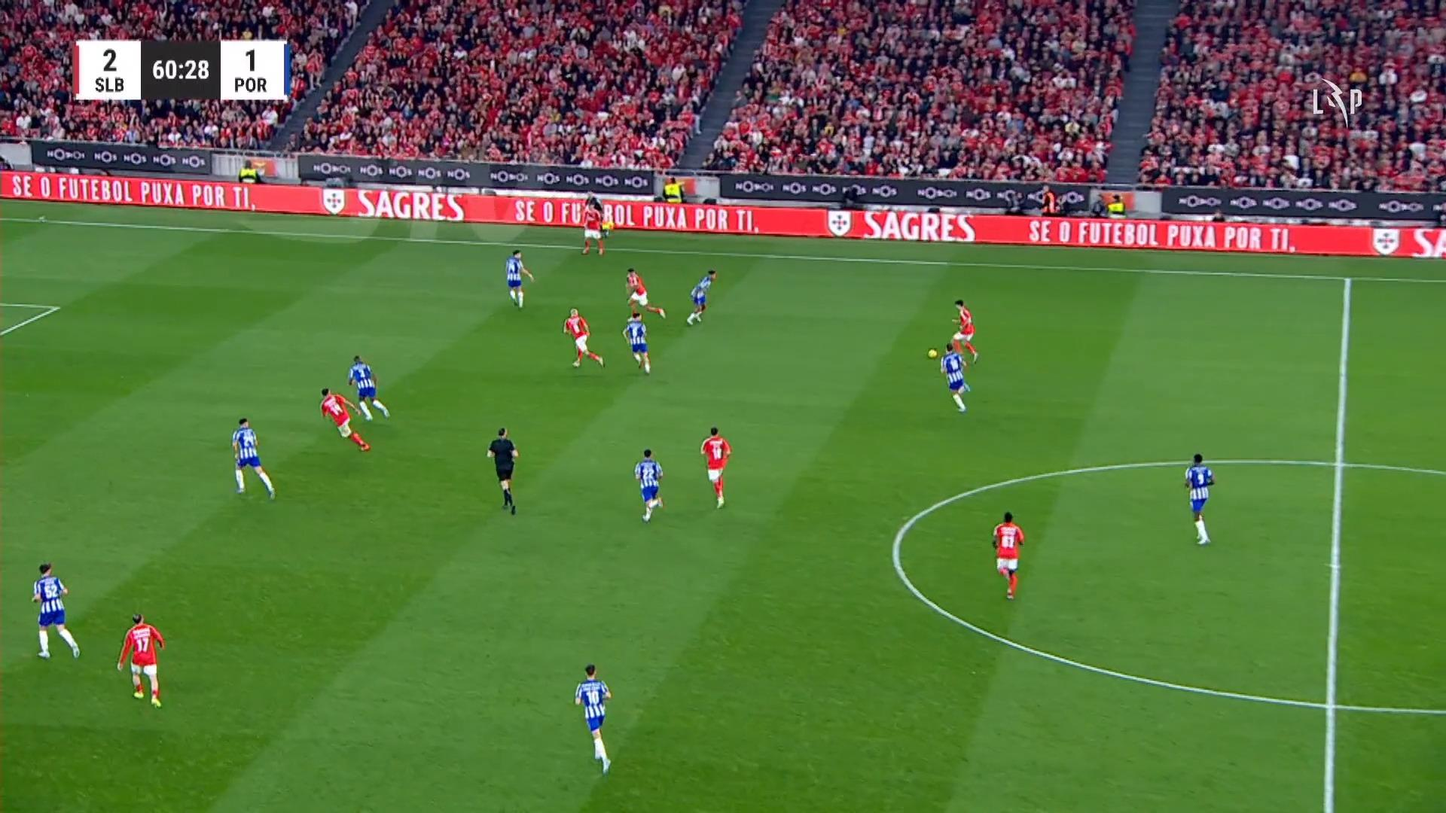ball: (997, 565, 1008, 576), (927, 349, 937, 358)
player: (116, 612, 166, 708), (31, 562, 80, 659), (573, 662, 612, 775), (230, 417, 275, 501), (319, 387, 370, 452), (991, 510, 1024, 599), (346, 354, 389, 421), (1184, 452, 1214, 545), (562, 307, 604, 369), (700, 426, 731, 509), (624, 266, 666, 321), (633, 448, 664, 522), (939, 341, 970, 412), (950, 298, 978, 365), (622, 311, 651, 375), (685, 268, 717, 325), (505, 248, 534, 309), (580, 203, 606, 256)
referee: (486, 426, 519, 515), (585, 191, 615, 237)
